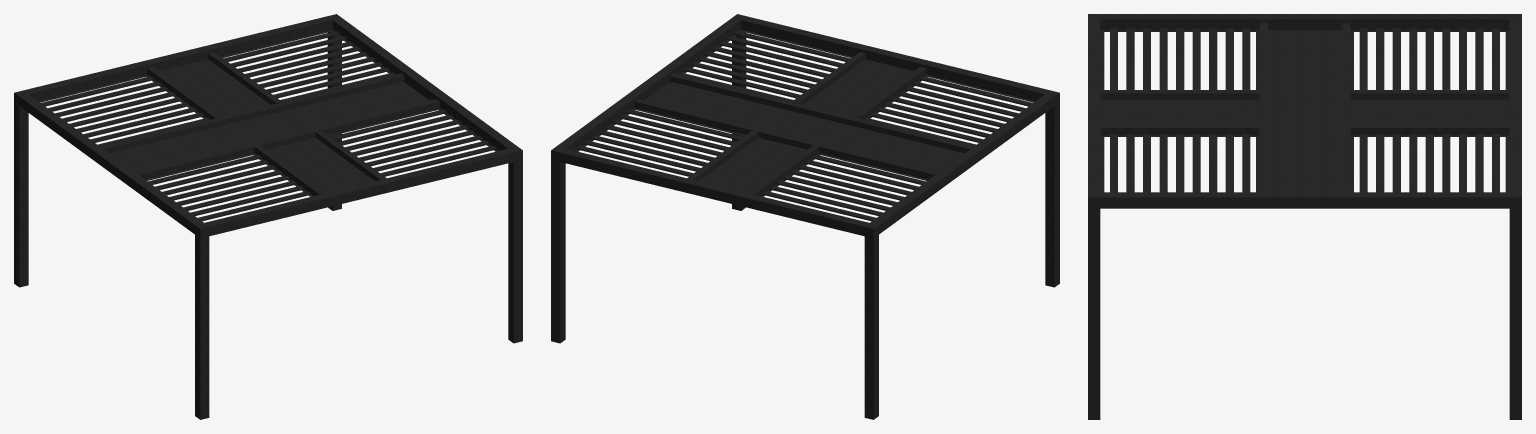
The model's file is 00_Aluminium Pergola-5x5-A2025.gltf.
The picture shows the model from 3 angles, left to right: view 1: azimuth 30°, elevation 25°; view 2: azimuth 150°, elevation 25°; view 3: azimuth 270°, elevation 25°; orthographic projection. The views are drawn at different scales.
Parts seen in each view (by area): view 1: Generic_Models_Purlin-10x2x0_2-Aluminium_Pergola_Purlin-1936 (×32), Generic_Models_Beam-15x15x0_3-Aluminium_Pergola_Beam-5000mm_ (×4), Generic_Models_Post-15x15x0_3-Aluminium_Pergola_Post_3000mm_ (×4), Generic_Models_Rafter-Separator-10x10x0_2-Aluminium_Pergola_ (×6), Generic_Models_L_Angle-Aluminium_Pergola_4986mm, Generic_Models_L_Angle-Aluminium_Pergola_5000mm_14, Generic_Models_L_Angle-Aluminium_Pergola_4986mm_4, Generic_Models_L_Angle-Aluminium_Pergola_5000mm_12; view 2: Generic_Models_Purlin-10x2x0_2-Aluminium_Pergola_Purlin-1936 (×32), Generic_Models_Beam-15x15x0_3-Aluminium_Pergola_Beam-5000mm_ (×4), Generic_Models_Post-15x15x0_3-Aluminium_Pergola_Post_3000mm_ (×4), Generic_Models_Rafter-Separator-10x10x0_2-Aluminium_Pergola_ (×6), Generic_Models_L_Angle-Aluminium_Pergola_4986mm_3, Generic_Models_L_Angle-Aluminium_Pergola_5000mm_13, Generic_Models_L_Angle-Aluminium_Pergola_4986mm_2, Generic_Models_L_Angle-Aluminium_Pergola_5000mm_12; view 3: Generic_Models_Purlin-10x2x0_2-Aluminium_Pergola_Purlin-1936 (×36), Generic_Models_Beam-15x15x0_3-Aluminium_Pergola_Beam-5000mm_ (×4), Generic_Models_Rafter-Separator-10x10x0_2-Aluminium_Pergola_ (×6), Generic_Models_Post-15x15x0_3-Aluminium_Pergola_Post_3000mm_ (×2), Generic_Models_L_Angle-Aluminium_Pergola_5000mm_11, Generic_Models_L_Angle-Aluminium_Pergola_1936mm_19, Generic_Models_L_Angle-Aluminium_Pergola_1936mm_22, Generic_Models_L_Angle-Aluminium_Pergola_5000mm_14, Generic_Models_L_Angle-Aluminium_Pergola_5000mm_13, Generic_Models_L_Angle-Aluminium_Pergola_4986mm, Generic_Models_L_Angle-Aluminium_Pergola_4986mm_3, Generic_Models_L_Angle-Aluminium_Pergola_1936mm_18 (+1 smaller).
Boxes of the visible parts, x1,y1,x2,y2 form: Generic_Models_Purlin-10x2x0_2-Aluminium_Pergola_Purlin-1936 (×32): (41,31,496,221); Generic_Models_Beam-15x15x0_3-Aluminium_Pergola_Beam-5000mm_ (×4): (19,16,517,236); Generic_Models_Post-15x15x0_3-Aluminium_Pergola_Post_3000mm_ (×4): (14,14,522,419); Generic_Models_Rafter-Separator-10x10x0_2-Aluminium_Pergola_ (×6): (100,52,439,195); Generic_Models_L_Angle-Aluminium_Pergola_4986mm: (142,105,440,180); Generic_Models_L_Angle-Aluminium_Pergola_5000mm_14: (35,26,333,102); Generic_Models_L_Angle-Aluminium_Pergola_4986mm_4: (107,79,405,153); Generic_Models_L_Angle-Aluminium_Pergola_5000mm_12: (330,27,501,151); Generic_Models_Purlin-10x2x0_2-Aluminium_Pergola_Purlin-1936 (×32): (577,31,1032,221); Generic_Models_Beam-15x15x0_3-Aluminium_Pergola_Beam-5000mm_ (×4): (556,16,1054,236); Generic_Models_Post-15x15x0_3-Aluminium_Pergola_Post_3000mm_ (×4): (551,14,1059,419); Generic_Models_Rafter-Separator-10x10x0_2-Aluminium_Pergola_ (×6): (634,52,973,195); Generic_Models_L_Angle-Aluminium_Pergola_4986mm_3: (633,105,931,180); Generic_Models_L_Angle-Aluminium_Pergola_5000mm_13: (740,26,1038,102); Generic_Models_L_Angle-Aluminium_Pergola_4986mm_2: (668,79,966,153); Generic_Models_L_Angle-Aluminium_Pergola_5000mm_12: (572,26,743,151); Generic_Models_Purlin-10x2x0_2-Aluminium_Pergola_Purlin-1936 (×36): (1110,28,1499,192); Generic_Models_Beam-15x15x0_3-Aluminium_Pergola_Beam-5000mm_ (×4): (1088,14,1521,208); Generic_Models_Rafter-Separator-10x10x0_2-Aluminium_Pergola_ (×6): (1101,23,1508,192); Generic_Models_Post-15x15x0_3-Aluminium_Pergola_Post_3000mm_ (×2): (1088,192,1521,419); Generic_Models_L_Angle-Aluminium_Pergola_5000mm_11: (1100,26,1509,31); Generic_Models_L_Angle-Aluminium_Pergola_1936mm_19: (1101,131,1259,136); Generic_Models_L_Angle-Aluminium_Pergola_1936mm_22: (1350,131,1508,136); Generic_Models_L_Angle-Aluminium_Pergola_5000mm_14: (1505,27,1509,192); Generic_Models_L_Angle-Aluminium_Pergola_5000mm_13: (1100,27,1104,192); Generic_Models_L_Angle-Aluminium_Pergola_4986mm: (1256,27,1259,192); Generic_Models_L_Angle-Aluminium_Pergola_4986mm_3: (1350,27,1353,192); Generic_Models_L_Angle-Aluminium_Pergola_1936mm_18: (1101,97,1259,102).
Bounding box in the file's own units: 5.3 × 3 × 5.3.
1 material, 1 textured.
